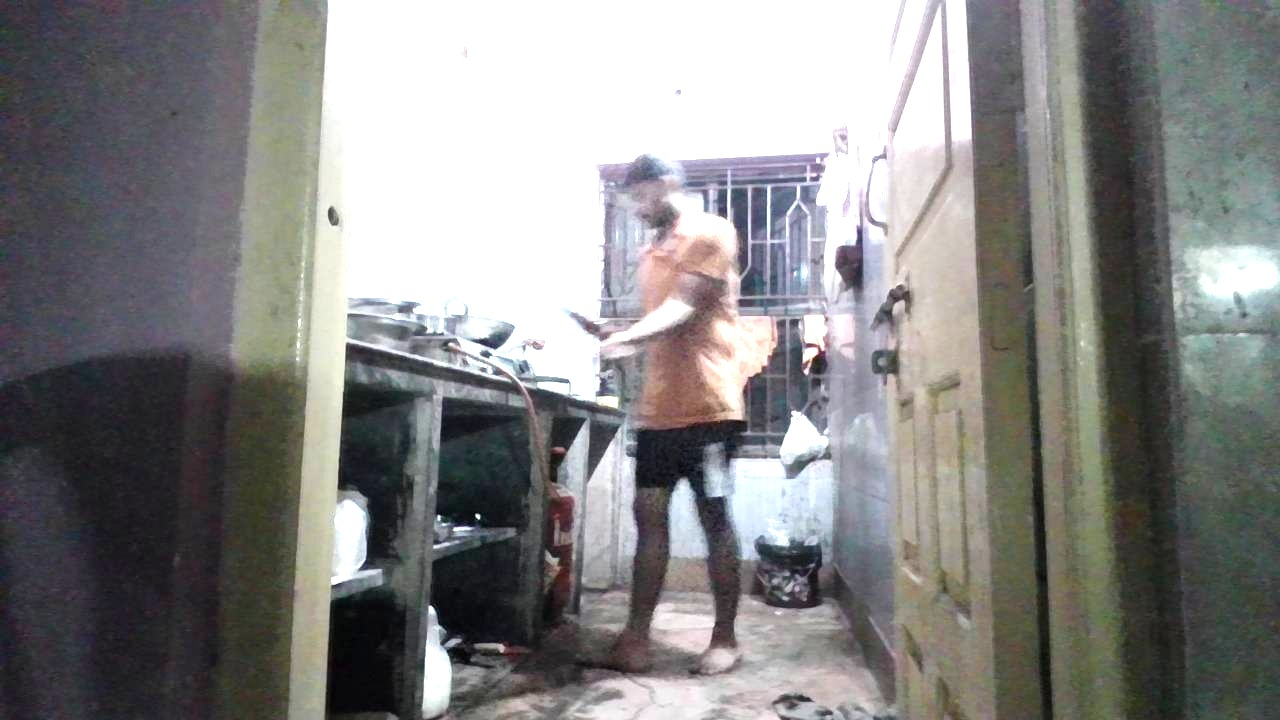red_box: (654, 384, 719, 426)
